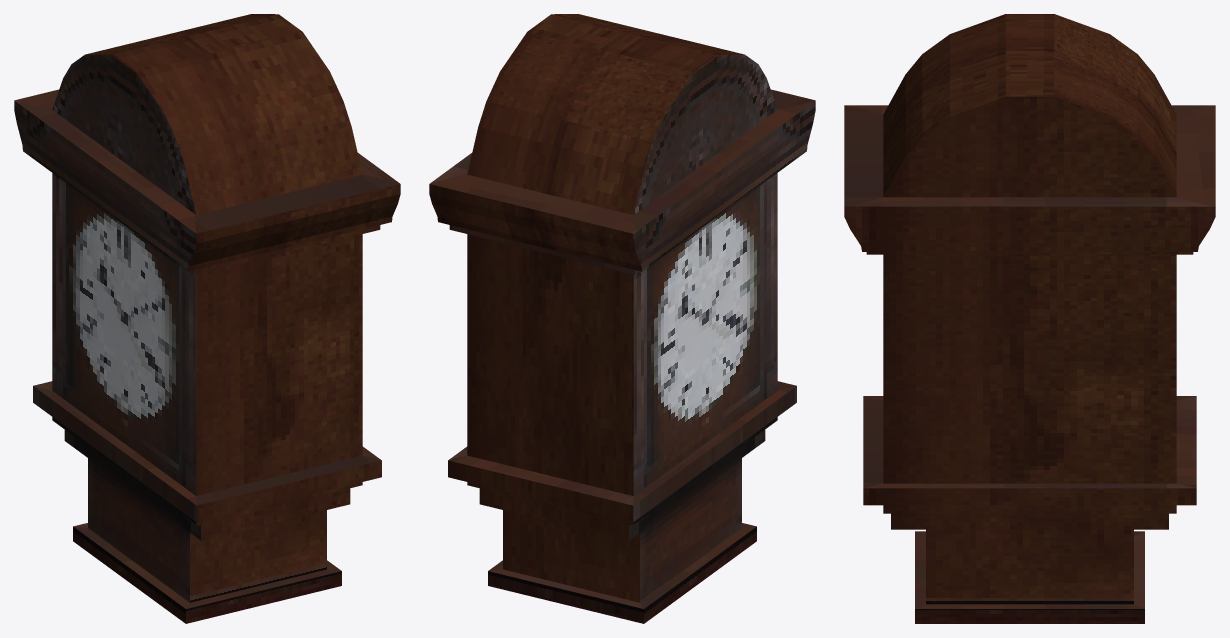
3 renders of one model, left to right at view 1: azimuth 30°, elevation 25°; view 2: azimuth 150°, elevation 25°; view 3: azimuth 270°, elevation 25°, orthographic.
Visible parts, largest first — view 1: cuboid; view 2: cuboid; view 3: cuboid.
Boxes of the visible parts, x1,y1,x2,y2 form: cuboid: (14, 14, 400, 623); cuboid: (429, 14, 815, 623); cuboid: (844, 14, 1215, 623).
Bounding box in the file's own units: 0.675 × 1.64 × 1.04.
1 material, 1 textured.
